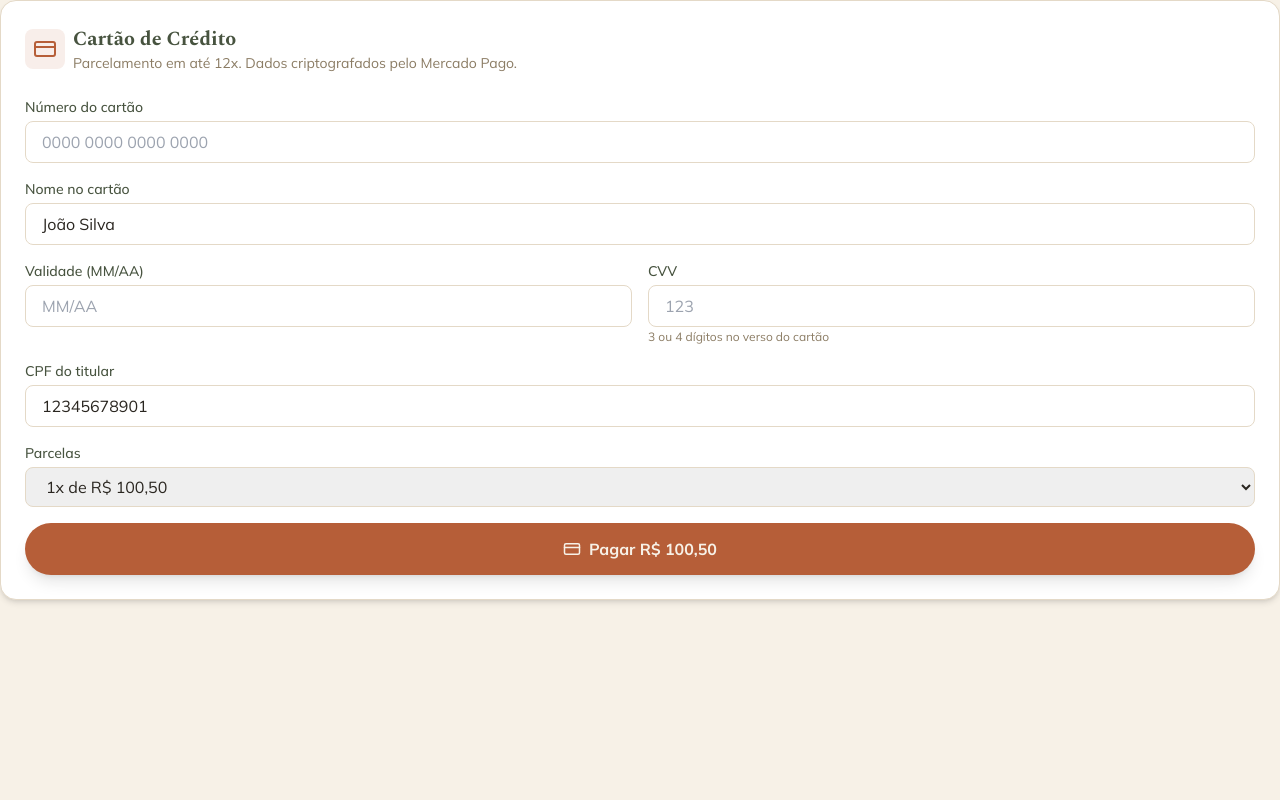
Test: CardPaymentForm › deve validar campos obrigatórios antes de submeter
Click the button "Pagar R$ 100,50". click: (640, 549)
box: x1=25 y1=523 x2=1255 y2=575
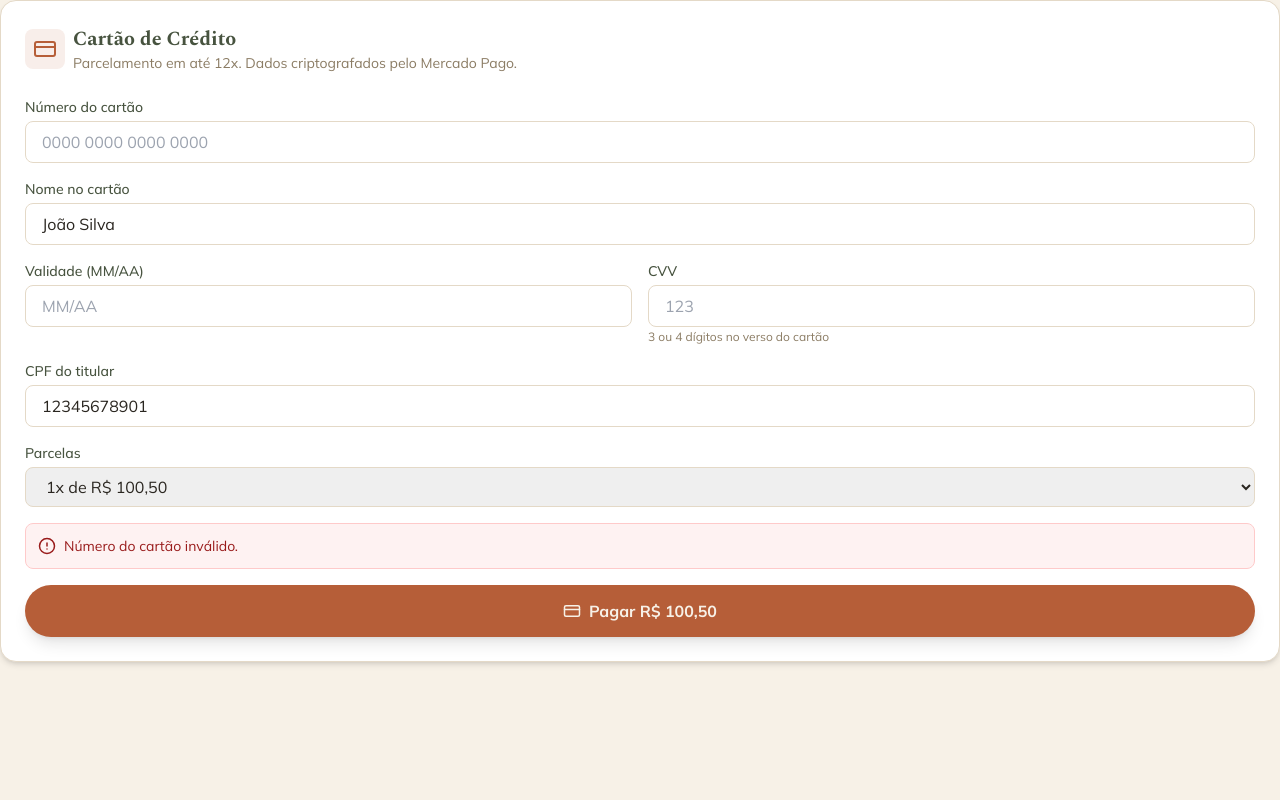
Result: the text "Número do cartão inválido." is shown at x1=25 y1=523 x2=1255 y2=569
